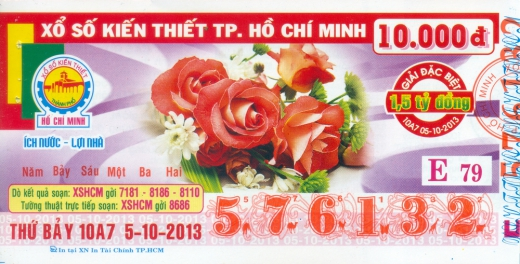serial_zone: (210, 193, 499, 245)
